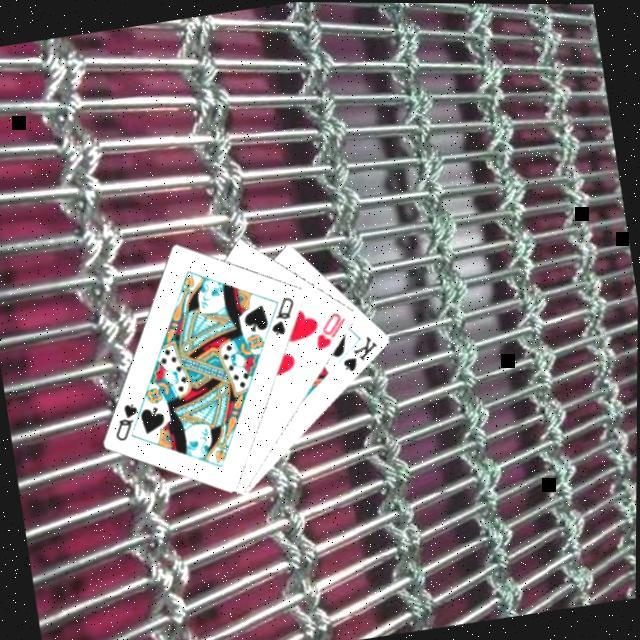10H: (310, 305, 356, 352)
KS: (338, 329, 387, 374)
QS: (266, 290, 304, 337), (110, 398, 148, 444)
